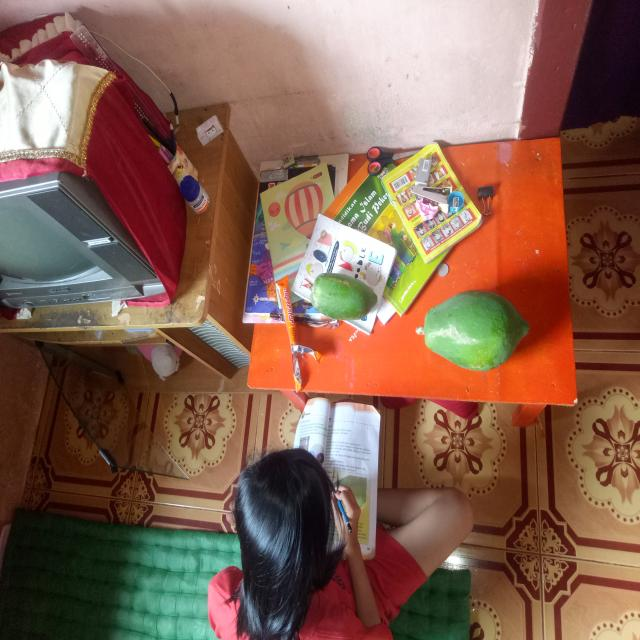Pepaya unrippen: (409, 299, 538, 373), (301, 257, 386, 325)
